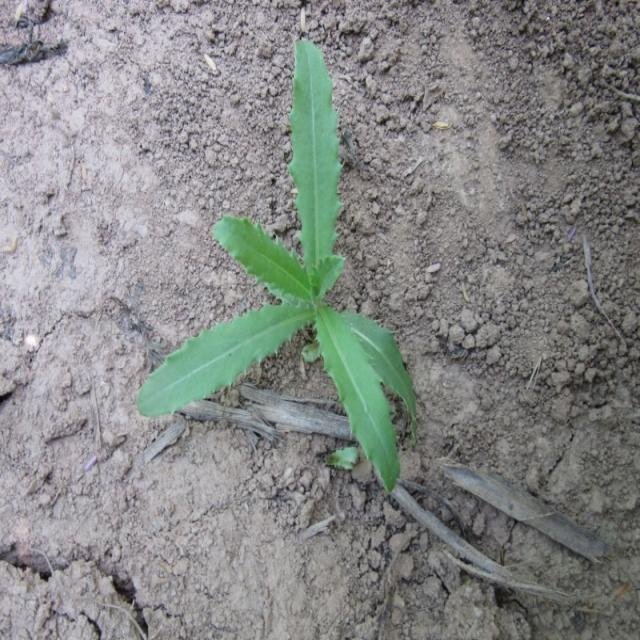field_thistle: (128, 43, 438, 478)
